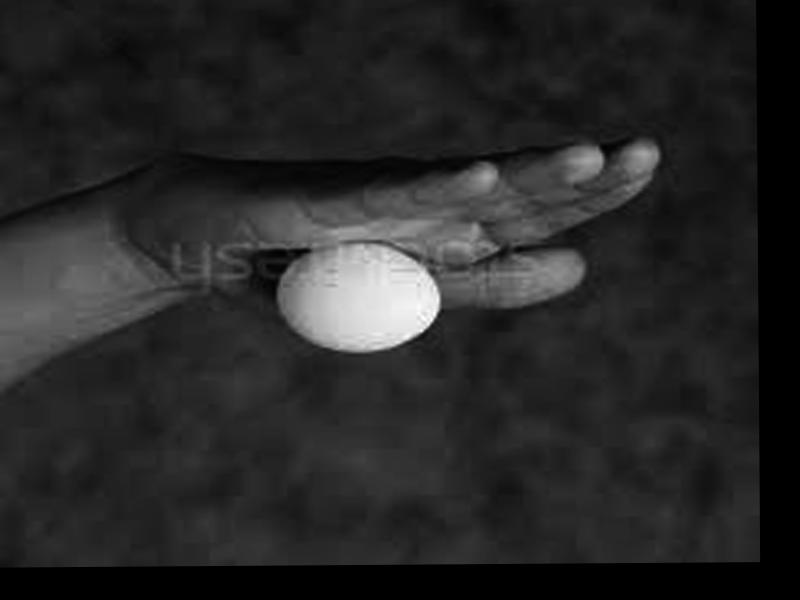Eggs: (275, 242, 440, 356)
